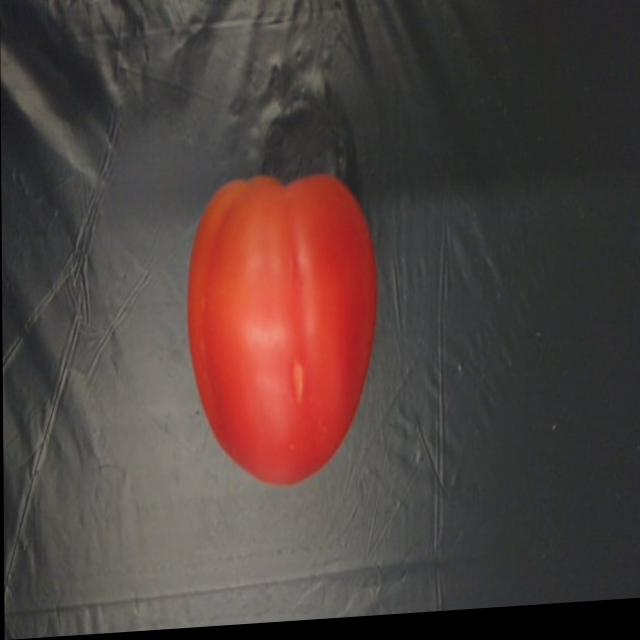kirmizi: (168, 160, 412, 507)
